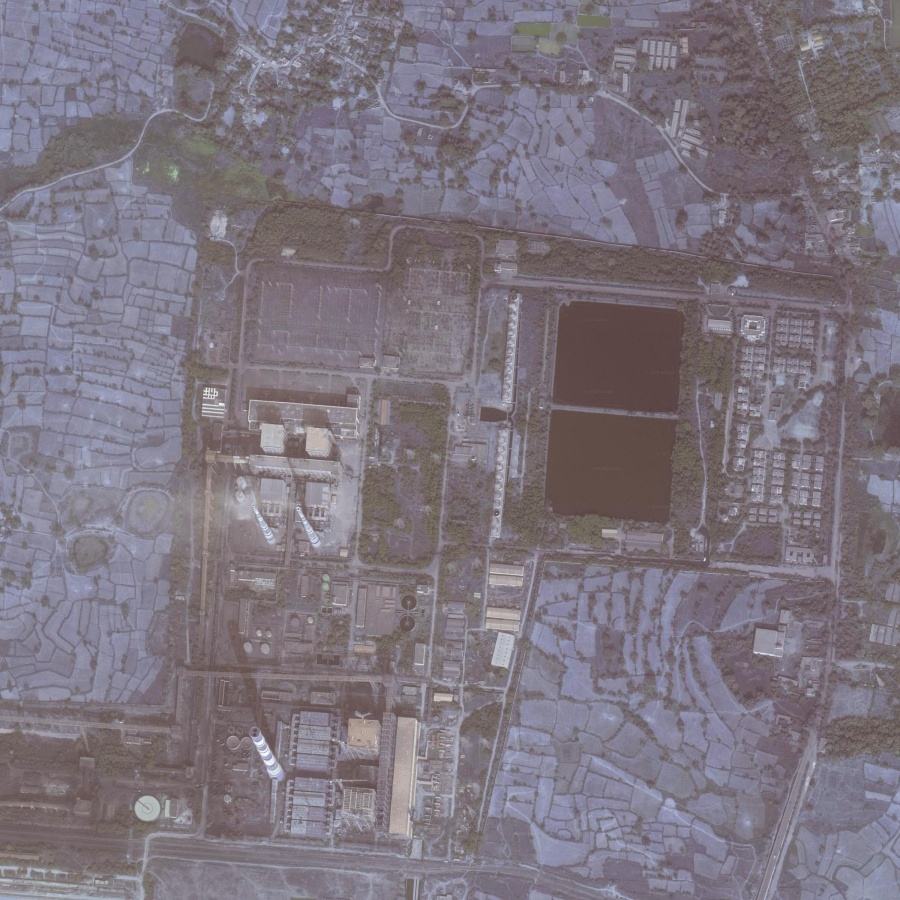PowerPlant: (205, 263, 696, 846)
